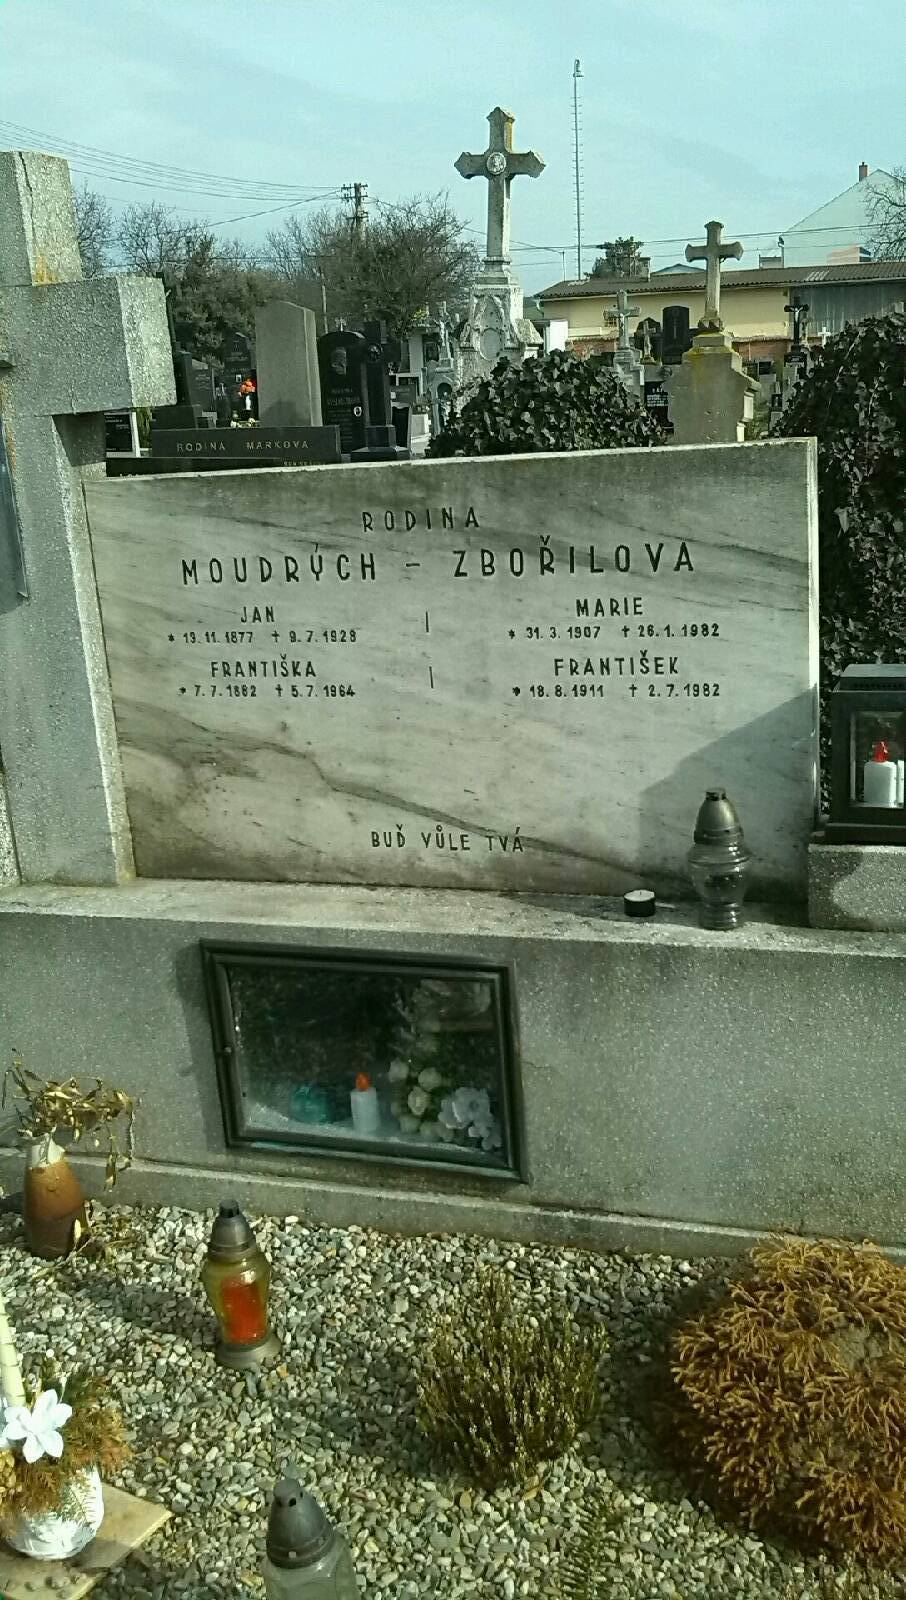upright: (0, 437, 906, 1288)
